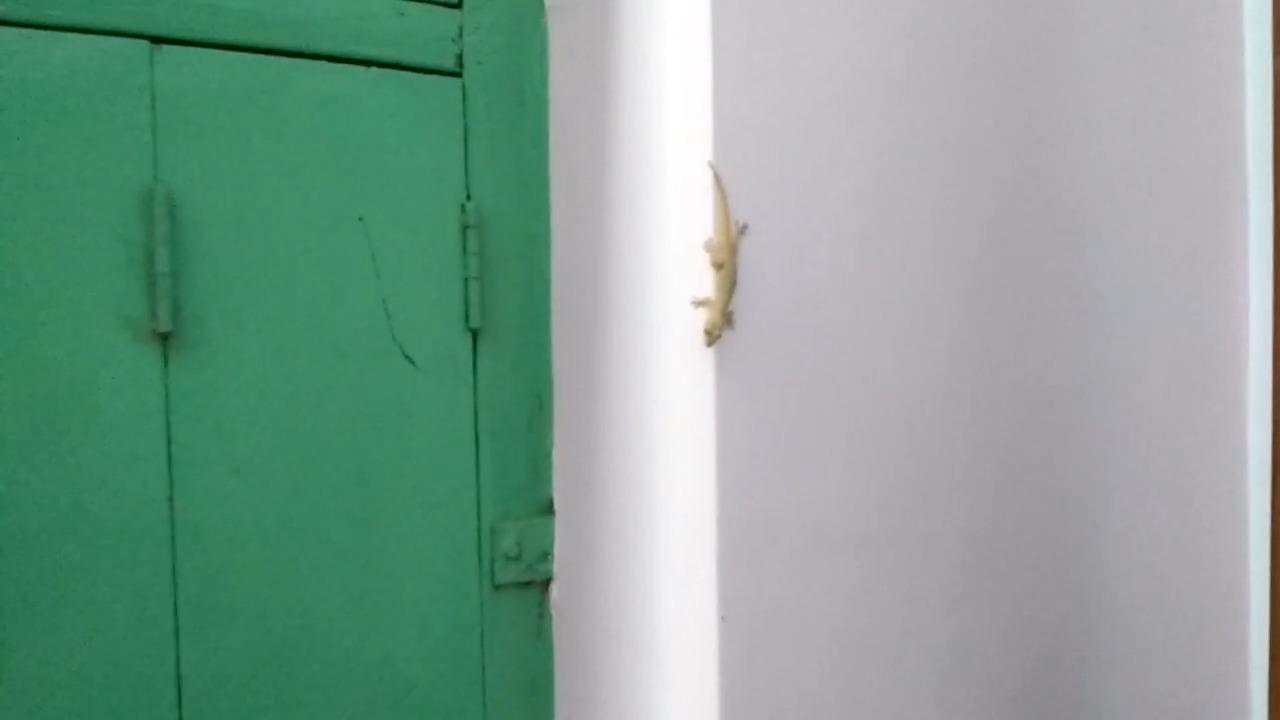lizard: (689, 154, 759, 359)
